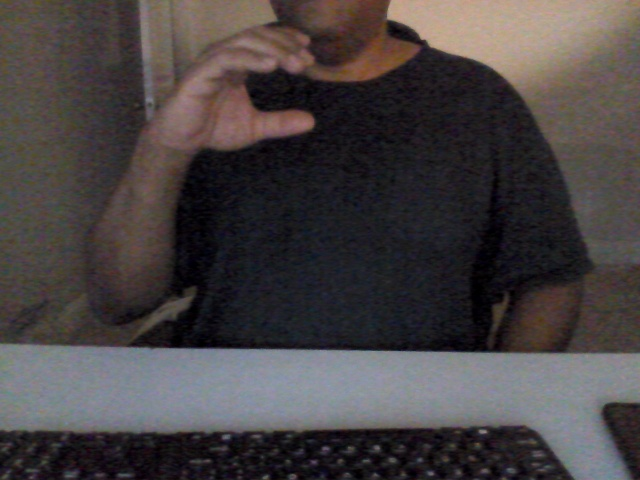drink: (155, 18, 329, 163)
